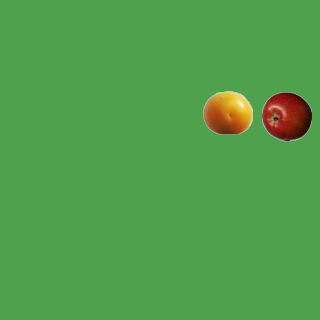Apple Braeburn: (261, 91, 311, 141)
Cherry Wax Yellow: (202, 87, 252, 137)
